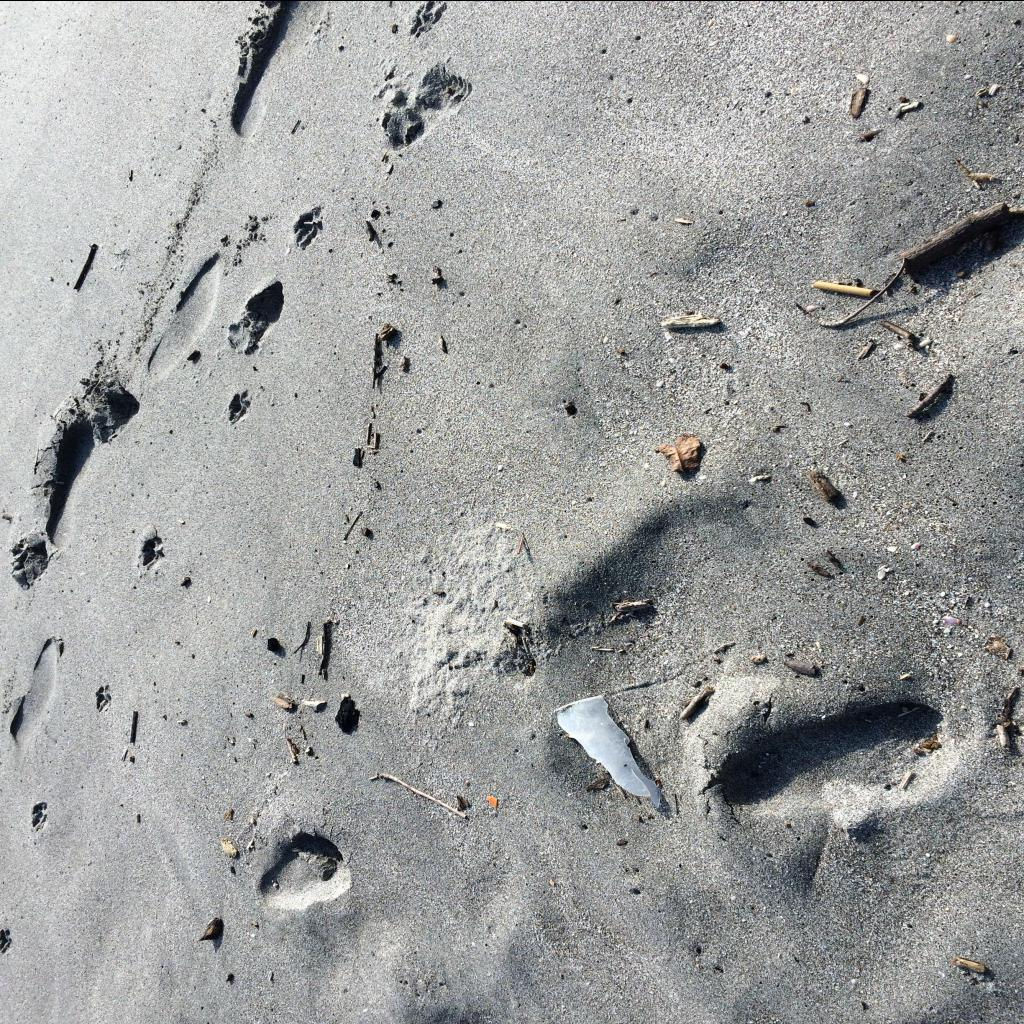Other plastic wrapper: (555, 694, 660, 806), (486, 795, 496, 807)
